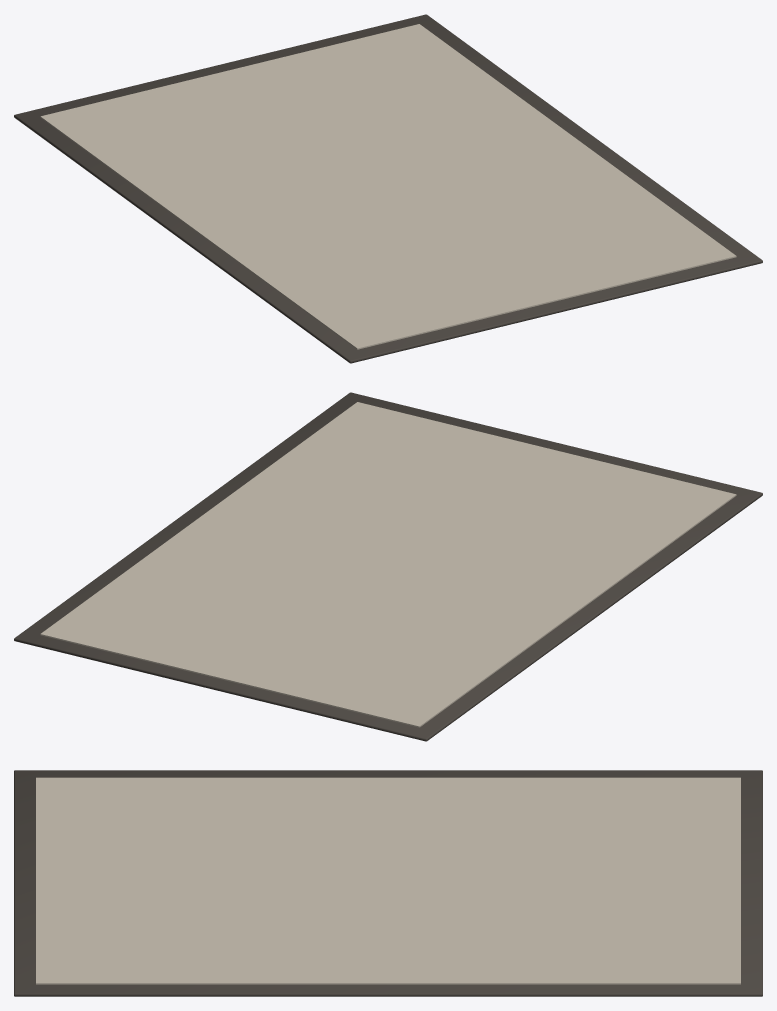
File: rug_rect.glb
3 views of the same model, one above another, from view 1: azimuth 30°, elevation 25°; view 2: azimuth 150°, elevation 25°; view 3: azimuth 270°, elevation 25° (orthographic). The views are drawn at different scales.
Visible parts, largest first — view 1: Field_LOD0, Border_LOD0; view 2: Field_LOD0, Border_LOD0; view 3: Field_LOD0, Border_LOD0.
Part boxes in pixels (x1,y1,x2,y2): Field_LOD0: (40, 24, 736, 349); Border_LOD0: (14, 14, 762, 363); Field_LOD0: (40, 402, 736, 727); Border_LOD0: (14, 392, 762, 741); Field_LOD0: (36, 777, 740, 984); Border_LOD0: (14, 770, 762, 996).
Bounding box in the file's own units: 1.7 × 0.017 × 2.4.
